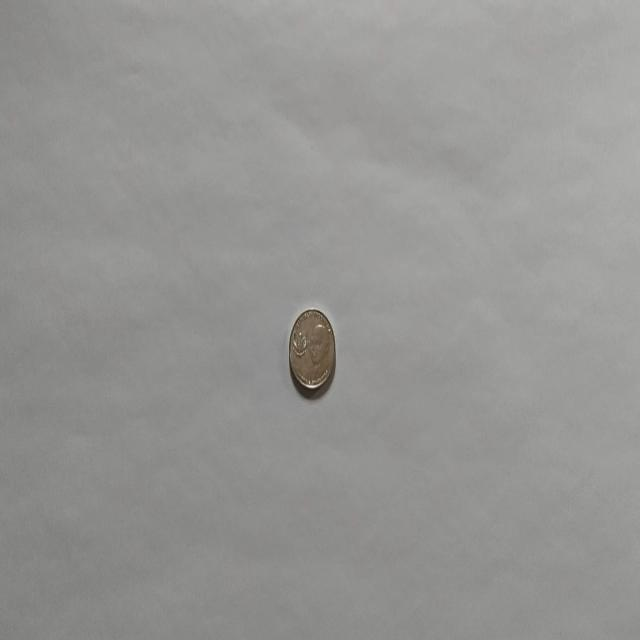lima ratus rupiah: (288, 307, 336, 392)
